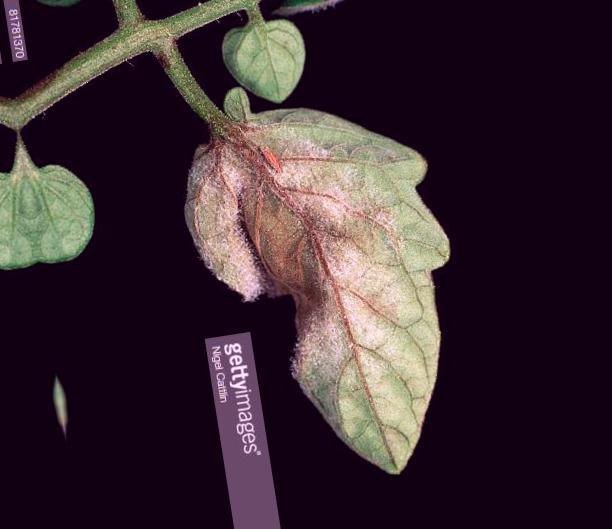Tomato leaf late blight: (161, 73, 486, 507)
